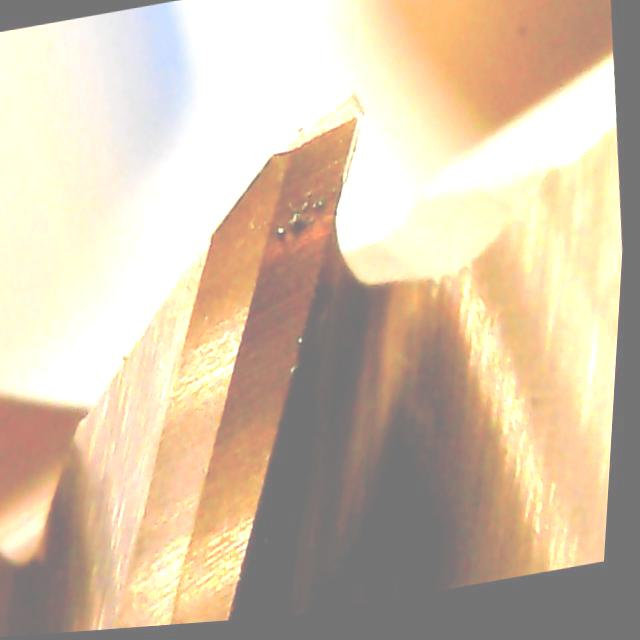Tool-wear-class-0: (189, 94, 391, 354)
